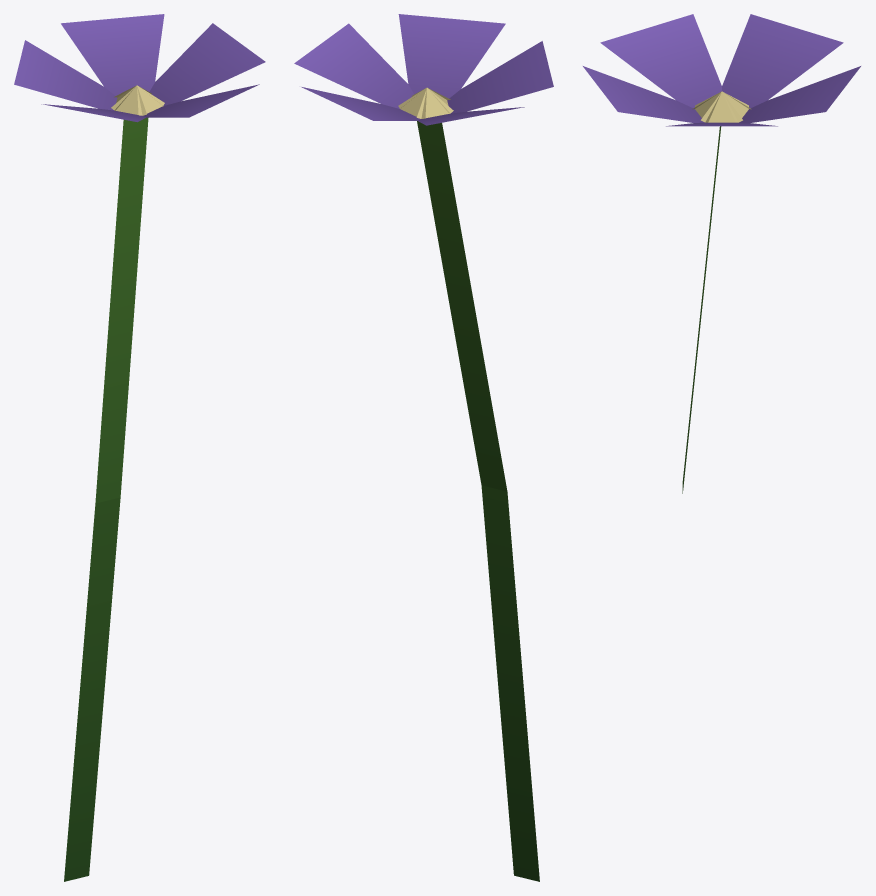
Rendered from flower_purple.glb.
3 views of the same model, side by side, from view 1: azimuth 30°, elevation 25°; view 2: azimuth 150°, elevation 25°; view 3: azimuth 270°, elevation 25° (orthographic). The views are drawn at different scales.
Visible parts, largest first — view 1: flower_purple; view 2: flower_purple; view 3: flower_purple.
Part boxes in pixels (x1,y1,x2,y2): flower_purple: (14, 14, 265, 881); flower_purple: (294, 14, 553, 881); flower_purple: (583, 14, 860, 493).
Bounding box in the file's own units: 0.1348 × 0.4727 × 0.1417.
